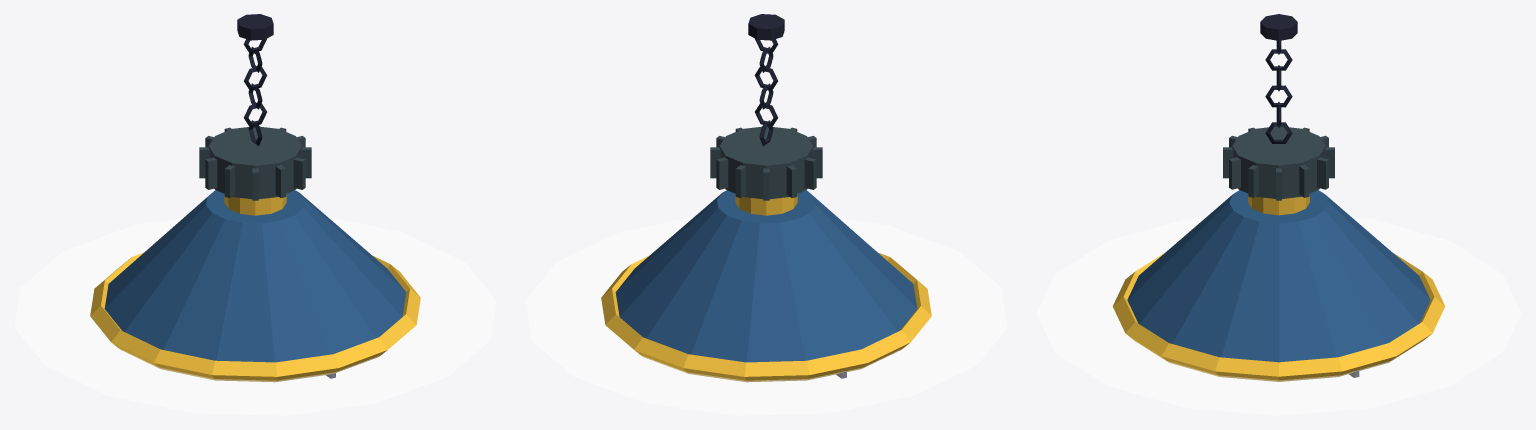
File: sm_env_depot_bay_lamp_bell.glb
The picture shows the model from 3 angles, left to right: view 1: azimuth 30°, elevation 25°; view 2: azimuth 150°, elevation 25°; view 3: azimuth 270°, elevation 25°; orthographic projection.
Parts seen in each view (by area): view 1: Shade, LampHalo, ShadeRing, Driver, Neck, Hook, DriverFin.005, DriverFin, DriverFin.004; view 2: Shade, LampHalo, ShadeRing, Driver, Neck, Hook, DriverFin.001, DriverFin, DriverFin.002; view 3: Shade, LampHalo, ShadeRing, Driver, Neck, Hook, DriverFin.003, DriverFin.002, DriverFin.004.
Part boxes in pixels (box(x1,y1,x2,y2)): Shade: box(104, 190, 406, 362); LampHalo: box(14, 217, 496, 415); ShadeRing: box(90, 252, 420, 382); Driver: box(208, 126, 302, 199); Neck: box(224, 194, 286, 215); Hook: box(237, 14, 273, 40); DriverFin.005: box(199, 147, 311, 178); DriverFin: box(205, 136, 305, 189); DriverFin.004: box(205, 136, 305, 189); Shade: box(615, 190, 917, 362); LampHalo: box(525, 217, 1007, 415); ShadeRing: box(601, 252, 931, 382); Driver: box(719, 126, 813, 199); Neck: box(735, 194, 797, 215); Hook: box(748, 14, 784, 40); DriverFin.001: box(710, 147, 822, 178); DriverFin: box(716, 136, 816, 189); DriverFin.002: box(716, 136, 816, 189); Shade: box(1127, 190, 1430, 362); LampHalo: box(1037, 217, 1520, 415); ShadeRing: box(1112, 253, 1445, 381); Driver: box(1232, 126, 1325, 198); Neck: box(1248, 194, 1309, 215); Hook: box(1260, 14, 1297, 40); DriverFin.003: box(1223, 147, 1334, 178); DriverFin.002: box(1229, 135, 1328, 189); DriverFin.004: box(1229, 135, 1328, 189).
Size of the model in its own units: 1.56 by 1.06 by 1.56.
